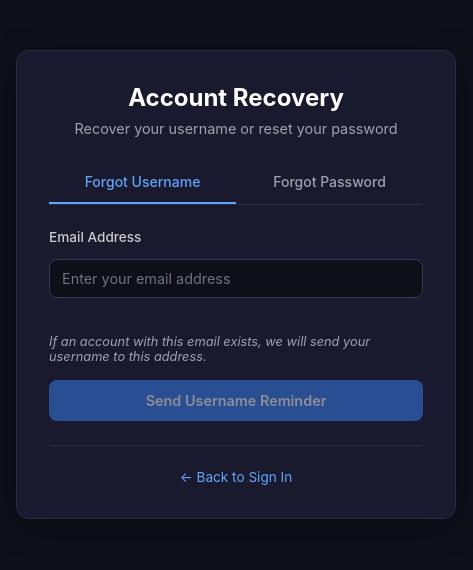
ForgotCredentialsView › submits forgot username request
Type "test@test.com" into the field with test id "forgot-email" at [236, 278], box 49,258 -> 423,298
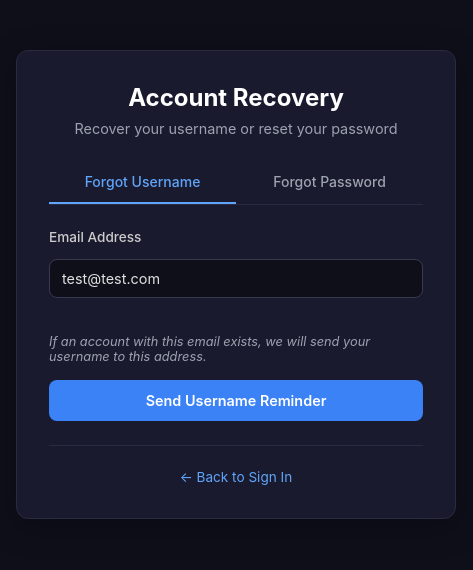
Click the button with test id "forgot-username-submit" at [236, 400], box 49,380 -> 423,420
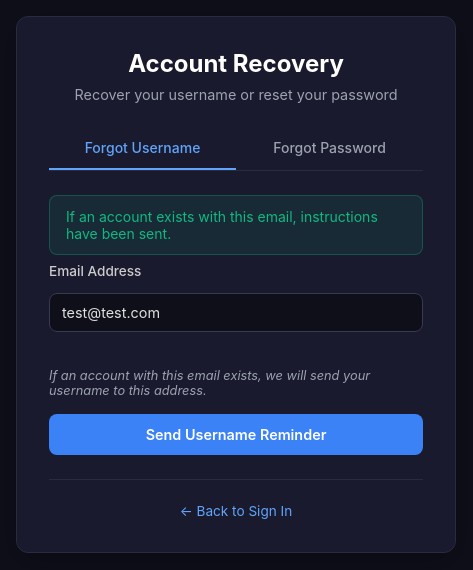
Expected: the message "If an account exists with this email, instructions have been sent." is shown, 49,194 -> 423,254
